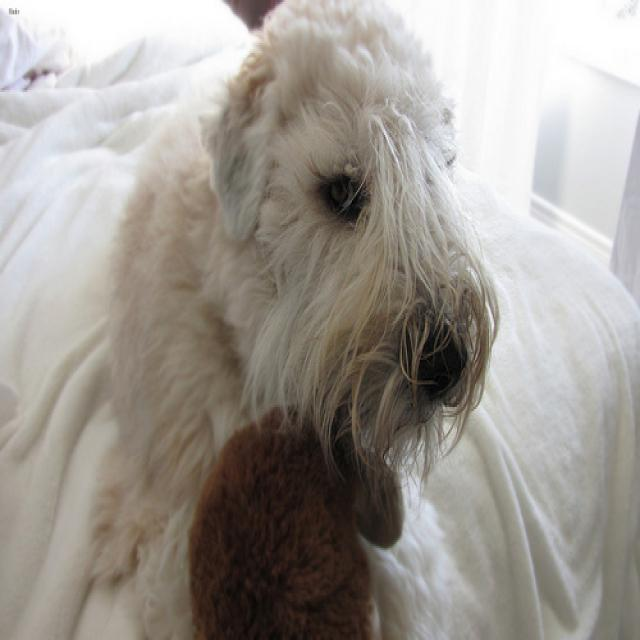dog-wheaten_terrier: (79, 2, 504, 591)
